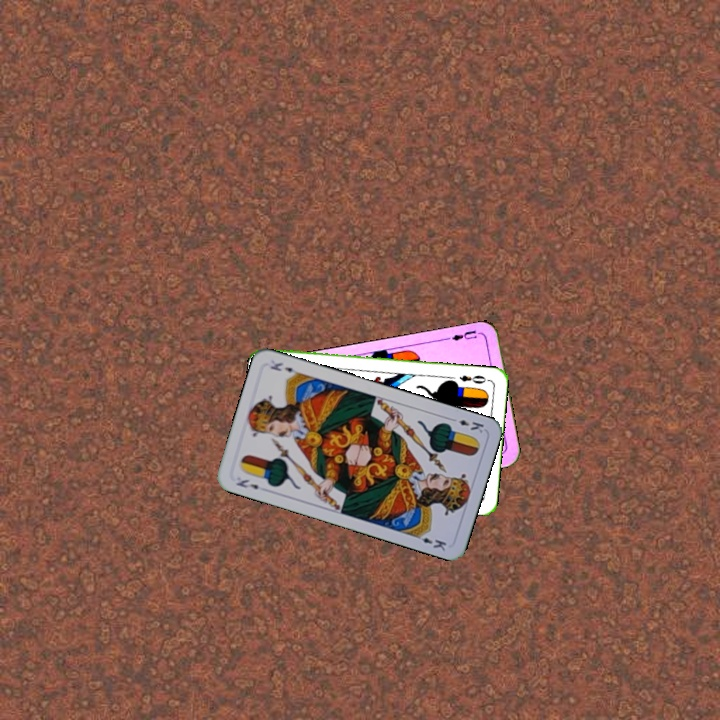EK: (446, 414, 486, 435), (232, 475, 261, 492)
EO: (456, 371, 492, 386)
EU: (443, 326, 483, 343)
